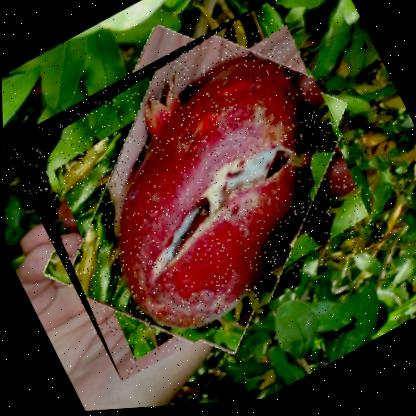pomegranate_rotten: (0, 0, 393, 392)
